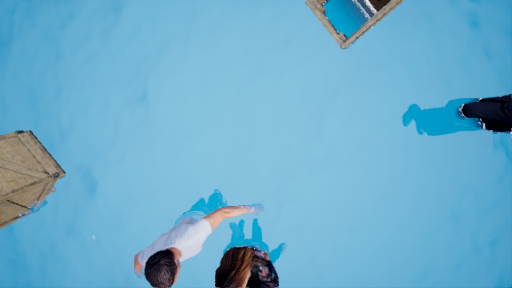person: (140, 182, 289, 287)
